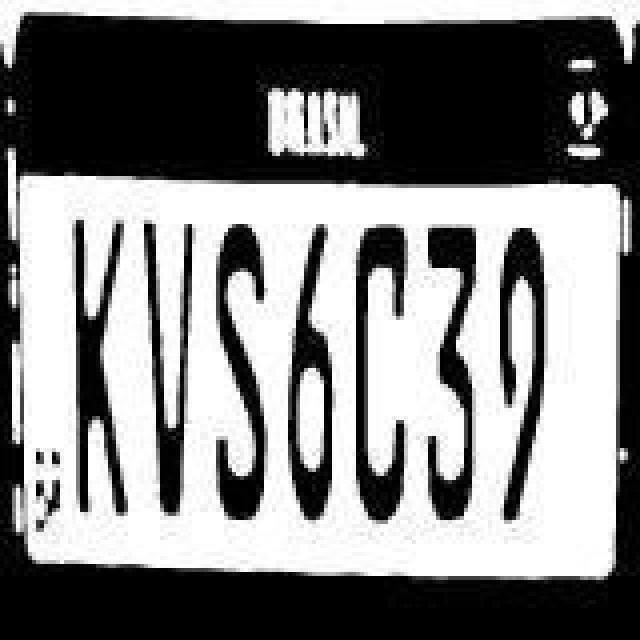3: (418, 216, 486, 528)
6: (278, 214, 346, 522)
9: (490, 224, 550, 528)
C: (348, 220, 412, 532)
K: (66, 208, 134, 520)
S: (210, 222, 270, 530)
V: (142, 212, 202, 524)
